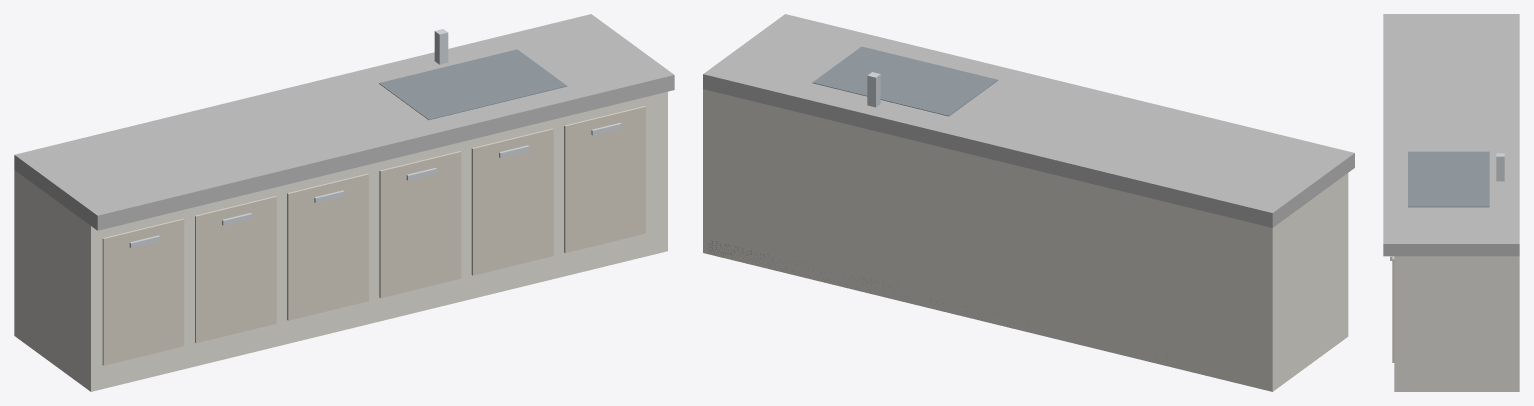
File: PRP_KitchenCounter.fbx
3 views of the same model, side by side, from view 1: azimuth 30°, elevation 25°; view 2: azimuth 150°, elevation 25°; view 3: azimuth 270°, elevation 25° (orthographic). The views are drawn at different scales.
Visible parts, largest first — view 1: PRP_KitchenCounter; view 2: PRP_KitchenCounter; view 3: PRP_KitchenCounter.
Boxes of the visible parts, x1,y1,x2,y2 form: PRP_KitchenCounter: (14,14,674,391); PRP_KitchenCounter: (703,14,1354,391); PRP_KitchenCounter: (1383,14,1519,391).
Bounding box in the file's own units: 10 × 3.5 × 2.5.
